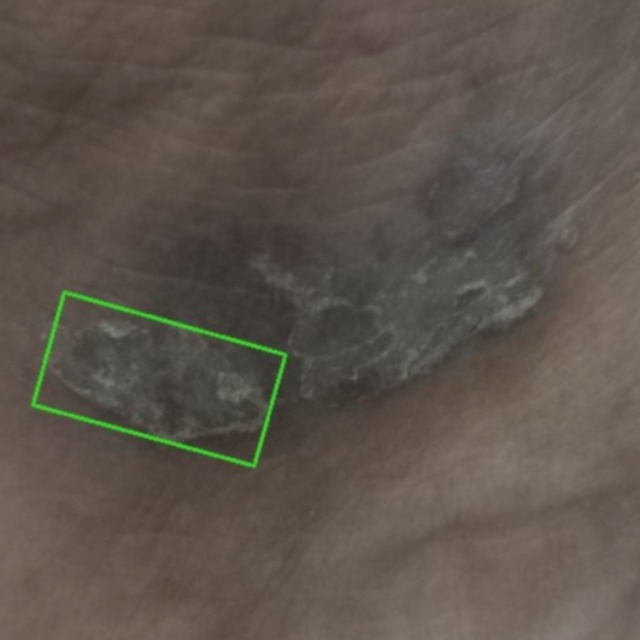Eczema: (32, 293, 284, 466)
